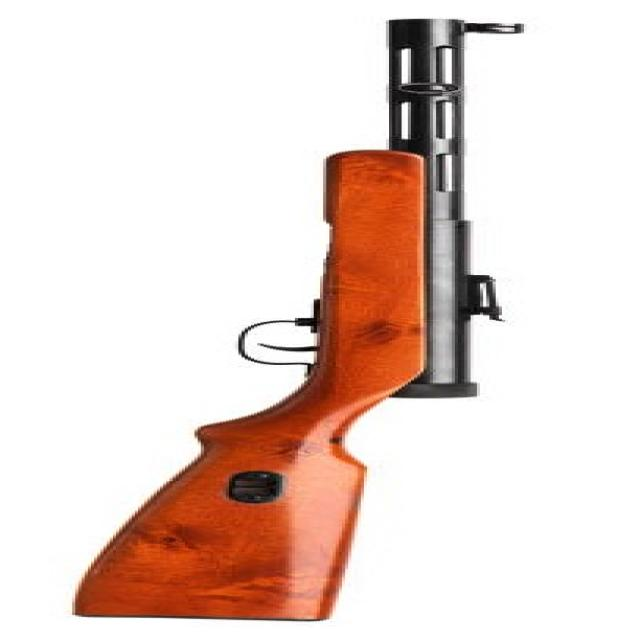rifle: (38, 12, 549, 628)
